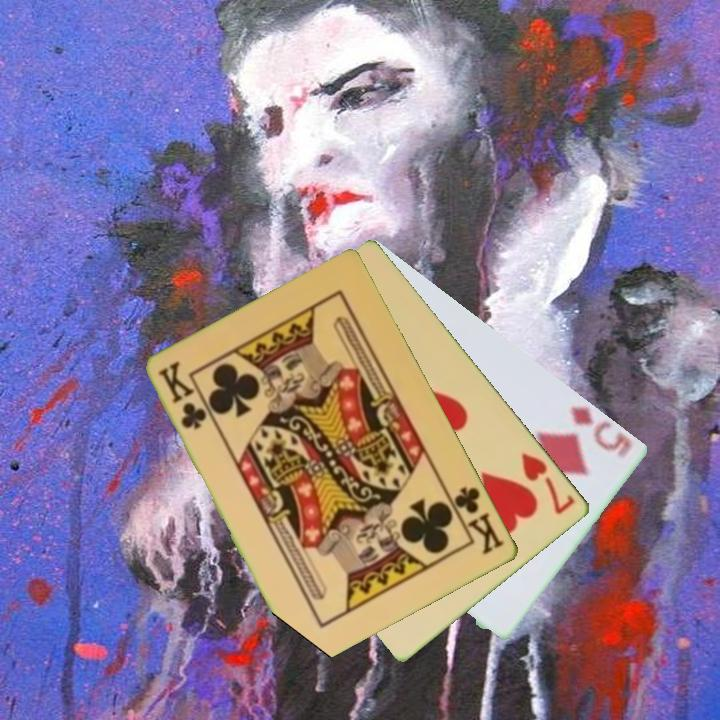5d: (568, 402, 636, 460)
7h: (518, 449, 578, 518)
Kc: (444, 483, 508, 558), (155, 359, 210, 433)
